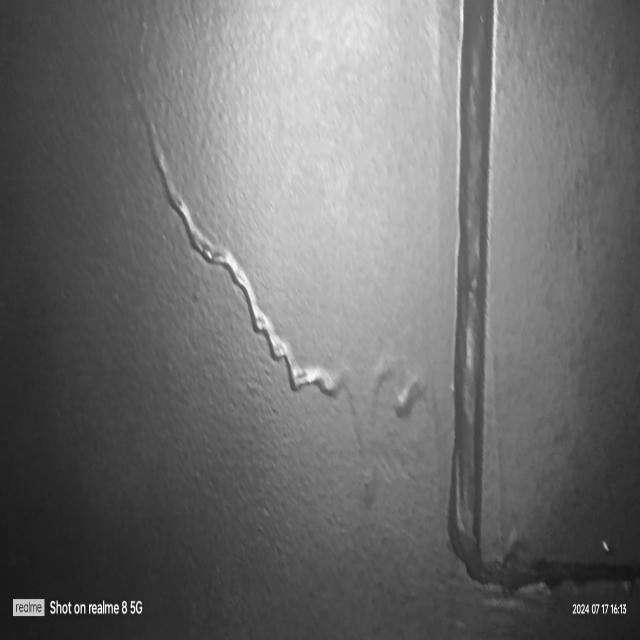paint drips: (109, 33, 445, 530)
